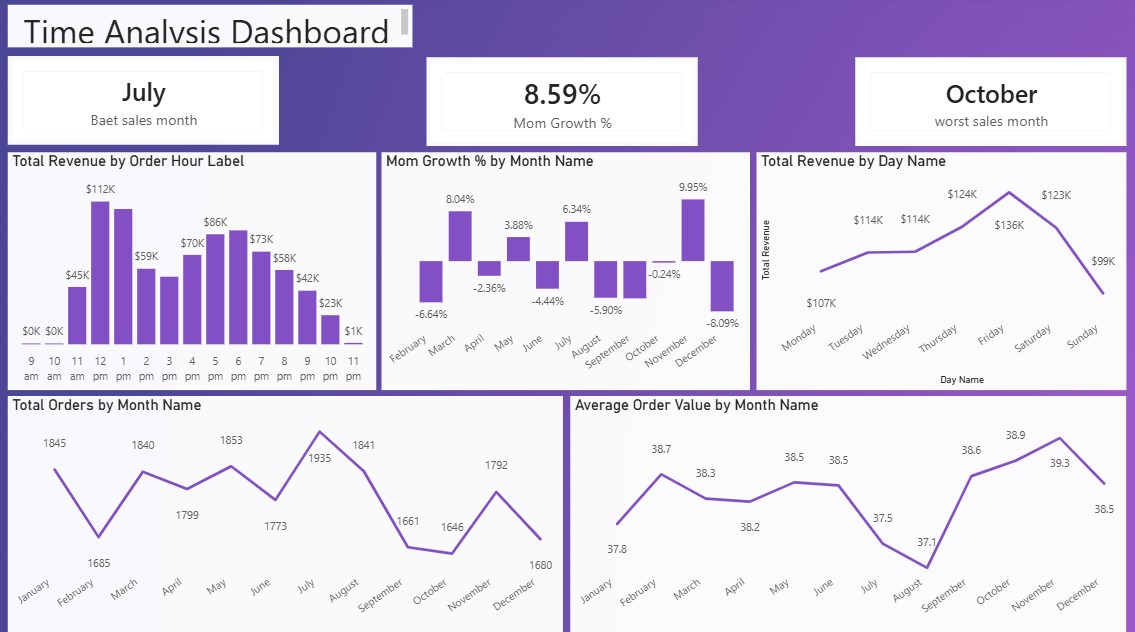

The page's visual inventory and layout, read from the dashboard file:
{"tool":"powerbi","page":{"name":"Time Anlysis","canvas":[1280,720],"ordinal":1},"visuals":[{"type":"lineChart","fields":{"Category":["Invoked Function.Day Name"],"Y":["order_details.Total Revenue"]},"box":[853.5,176.1,416.9,267.6],"z":0},{"type":"clusteredColumnChart","fields":{"Y":["order_details.Total Revenue"],"Category":["orders.Order Hour Label"]},"box":[9.9,176.1,415.5,267.6],"z":1000},{"type":"clusteredColumnChart","fields":{"Category":["Invoked Function.Month Name"],"Y":["Time Intelligence.Mom Growth %"]},"box":[431,176.1,415.5,267.6],"z":2000},{"type":"lineChart","fields":{"Category":["Invoked Function.Month Name"],"Y":["order_details.Total Orders"]},"box":[9.9,450.7,625.4,267.6],"z":3000},{"type":"lineChart","fields":{"Y":["order_details.Average Order Value"],"Category":["Invoked Function.Month Name"]},"box":[643.7,450.7,626.8,267.6],"z":4000},{"type":"cardVisual","fields":{"Data":["order_details.Baet sales month"]},"box":[9.9,67.6,305.6,100],"z":5000},{"type":"cardVisual","fields":{"Data":["order_details.worst sales month"]},"box":[964.8,69,305.6,100],"z":6000},{"type":"cardVisual","fields":{"Data":["Time Intelligence.Mom Growth %"]},"box":[481.7,69,305.6,100],"z":7000},{"type":"textbox","box":[9.9,9.9,456.3,47.9],"z":8000}]}

Visuals, with their boxes in screenshot pixels (x1, y1, x2, y2), scaled from the page's 1280x720 canvas onto the 1135x632 screenshot:
lineChart - Invoked Function.Day Name x order_details.Total Revenue: detection(757, 155, 1126, 389)
clusteredColumnChart - order_details.Total Revenue x orders.Order Hour Label: detection(9, 155, 377, 389)
clusteredColumnChart - Invoked Function.Month Name x Time Intelligence.Mom Growth %: detection(382, 155, 751, 389)
lineChart - Invoked Function.Month Name x order_details.Total Orders: detection(9, 396, 563, 631)
lineChart - order_details.Average Order Value x Invoked Function.Month Name: detection(571, 396, 1127, 631)
cardVisual - order_details.Baet sales month: detection(9, 59, 280, 147)
cardVisual - order_details.worst sales month: detection(856, 61, 1126, 148)
cardVisual - Time Intelligence.Mom Growth %: detection(427, 61, 698, 148)
textbox: detection(9, 9, 413, 51)
